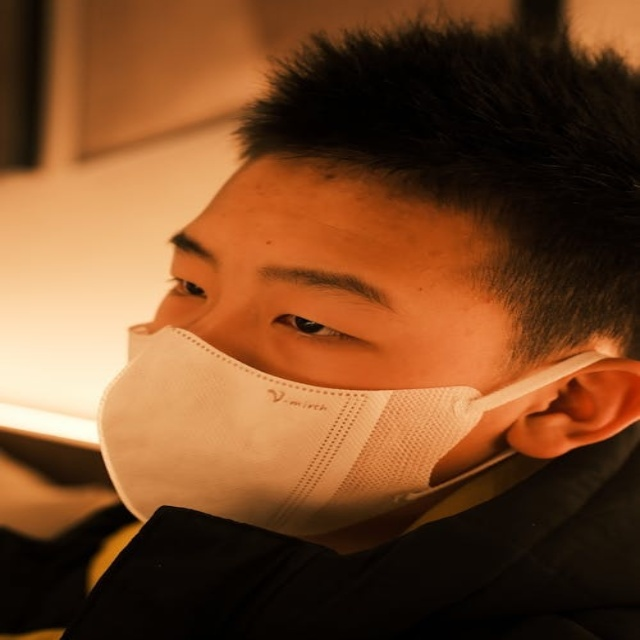Mascara: (100, 323, 619, 540)
Sin_gafas: (159, 220, 445, 358)
